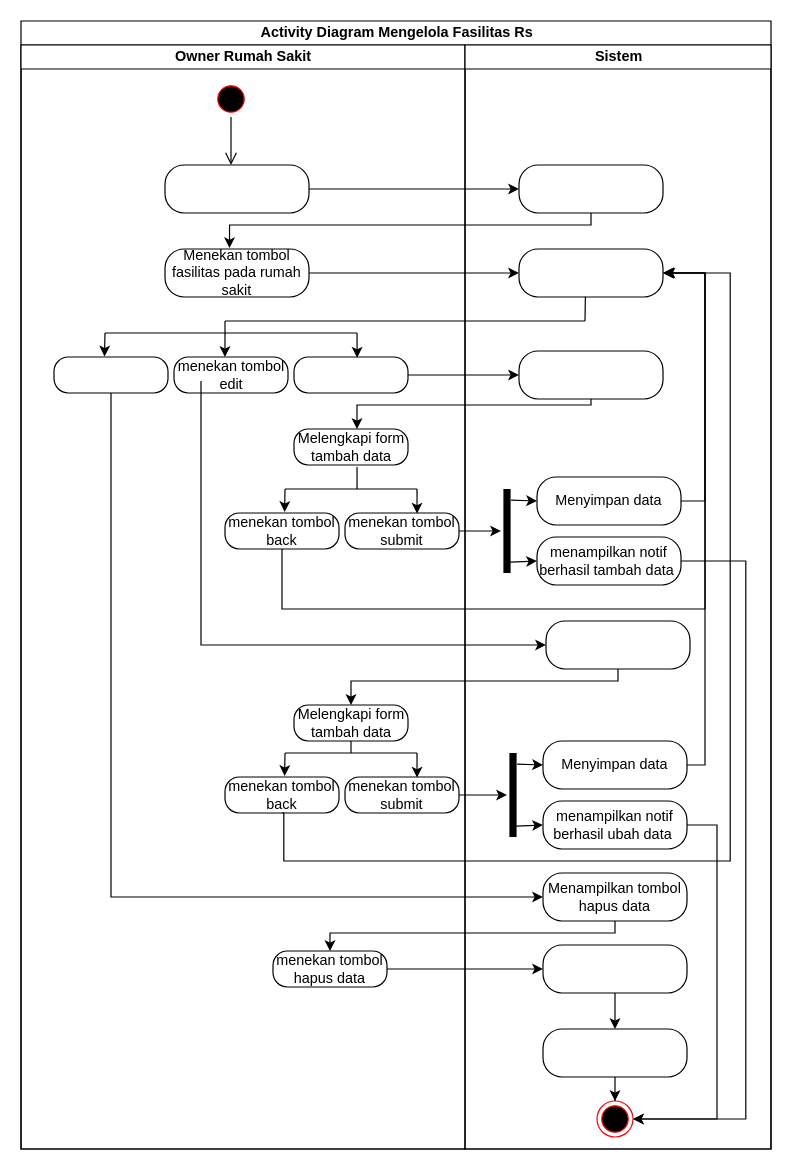
This 792x1170 diagram has some shape labels left out. The centre of each missing label's shape, as x and y in pixels:
Memilih menu data rumah sakit: the point at 236,188
Menampilkan data fasilitas: the point at 590,272
Menampilkan data rumah sakit: the point at 590,188
Menampilkan form edit data: the point at 617,644
Menampilkan form tambah data: the point at 590,374
menampilkan notif berhasil hapus data: the point at 614,1052
menekan checkbox: the point at 110,374
menekan tombol tambah: the point at 350,374
menghapus data: the point at 614,968
